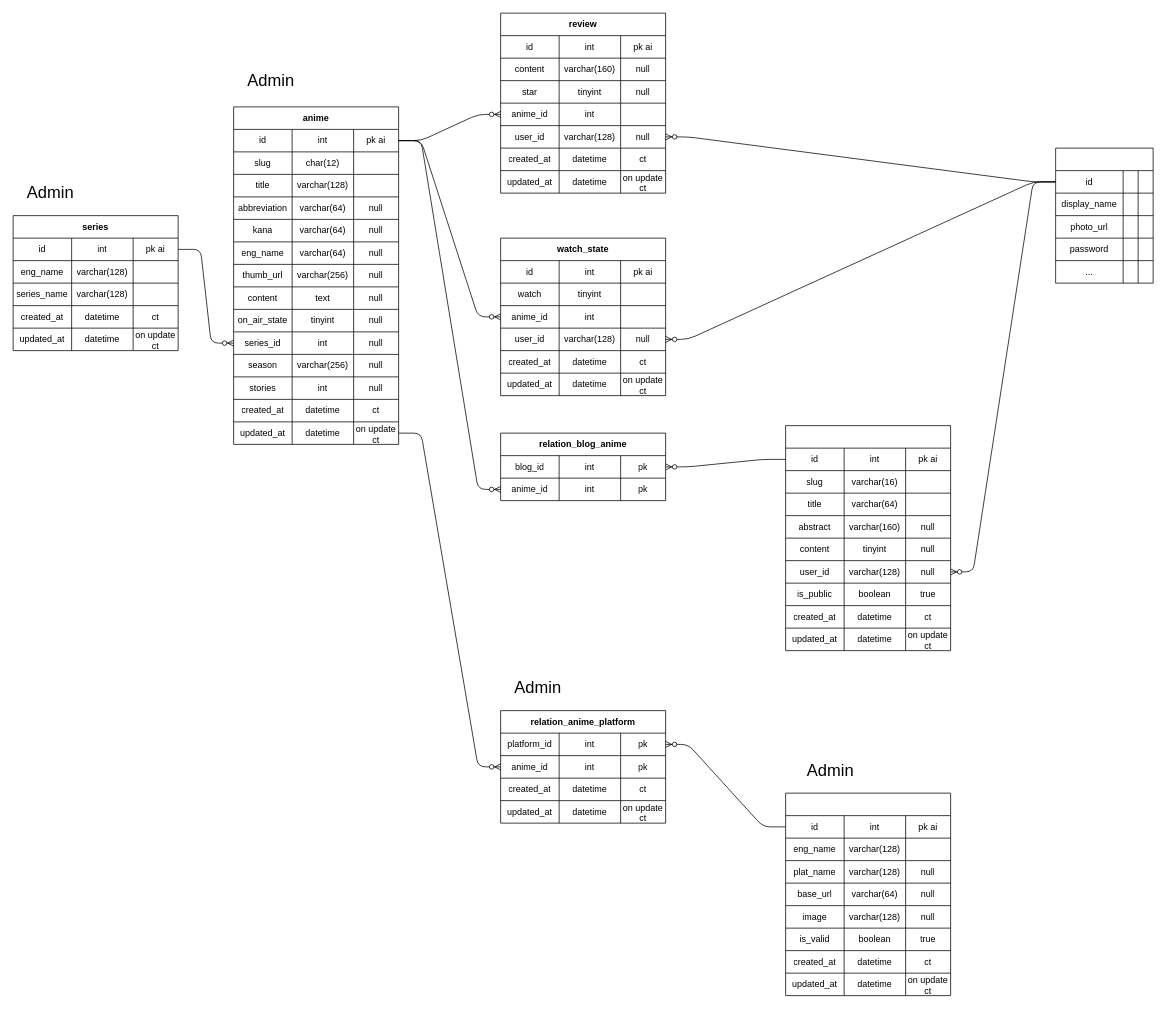
This 1166x1009 diagram has some shape labels left out. The shapes that lost their labels are listed below. From the top down, each one's box as (x1, y1, x2, y2) in pixels, then its label:
(1055, 147, 1153, 283): user (firebase)
(785, 425, 951, 651): blog
(785, 792, 951, 996): platform
